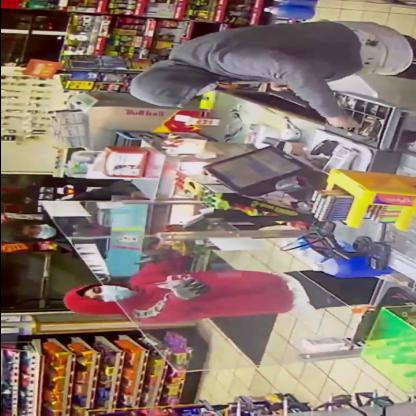Pistol: (260, 81, 312, 115), (122, 247, 180, 267)
